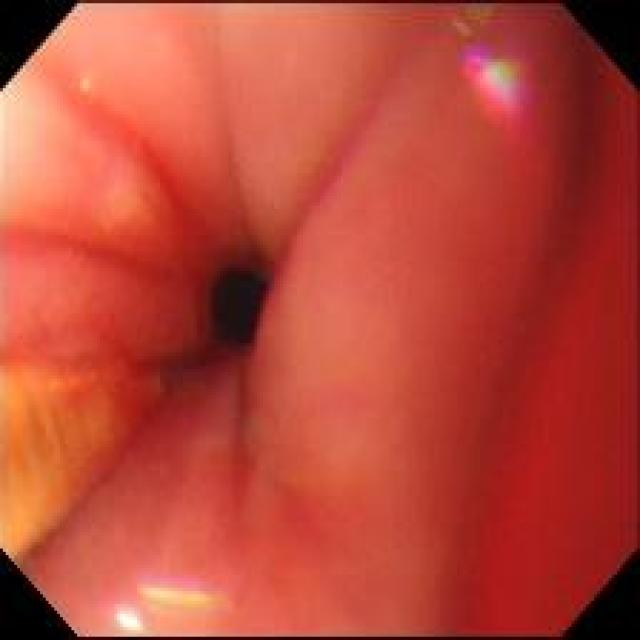color misalignment: (465, 43, 530, 123), (138, 572, 234, 614), (450, 5, 499, 36), (75, 74, 96, 100)
contrast: (206, 246, 275, 356)
instrument: (1, 358, 169, 560)
specularity: (116, 604, 148, 633)
